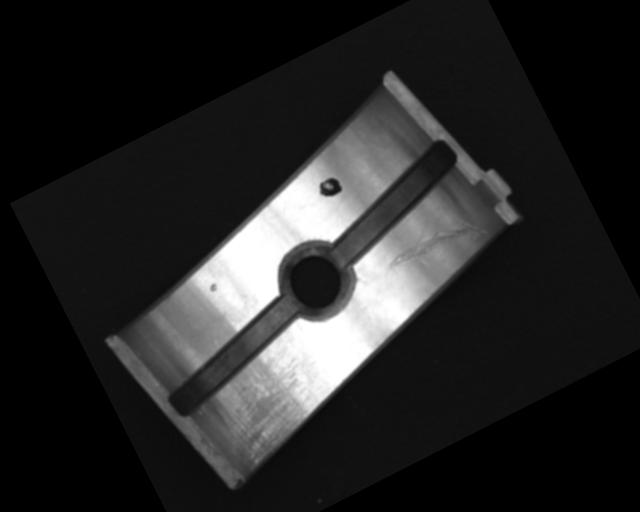blot: (314, 173, 345, 202)
bruise: (207, 281, 220, 293)
gap: (306, 133, 480, 271), (148, 292, 317, 420)
hole: (267, 232, 366, 332)
nick: (373, 195, 488, 281)
scratch: (201, 343, 332, 472)
